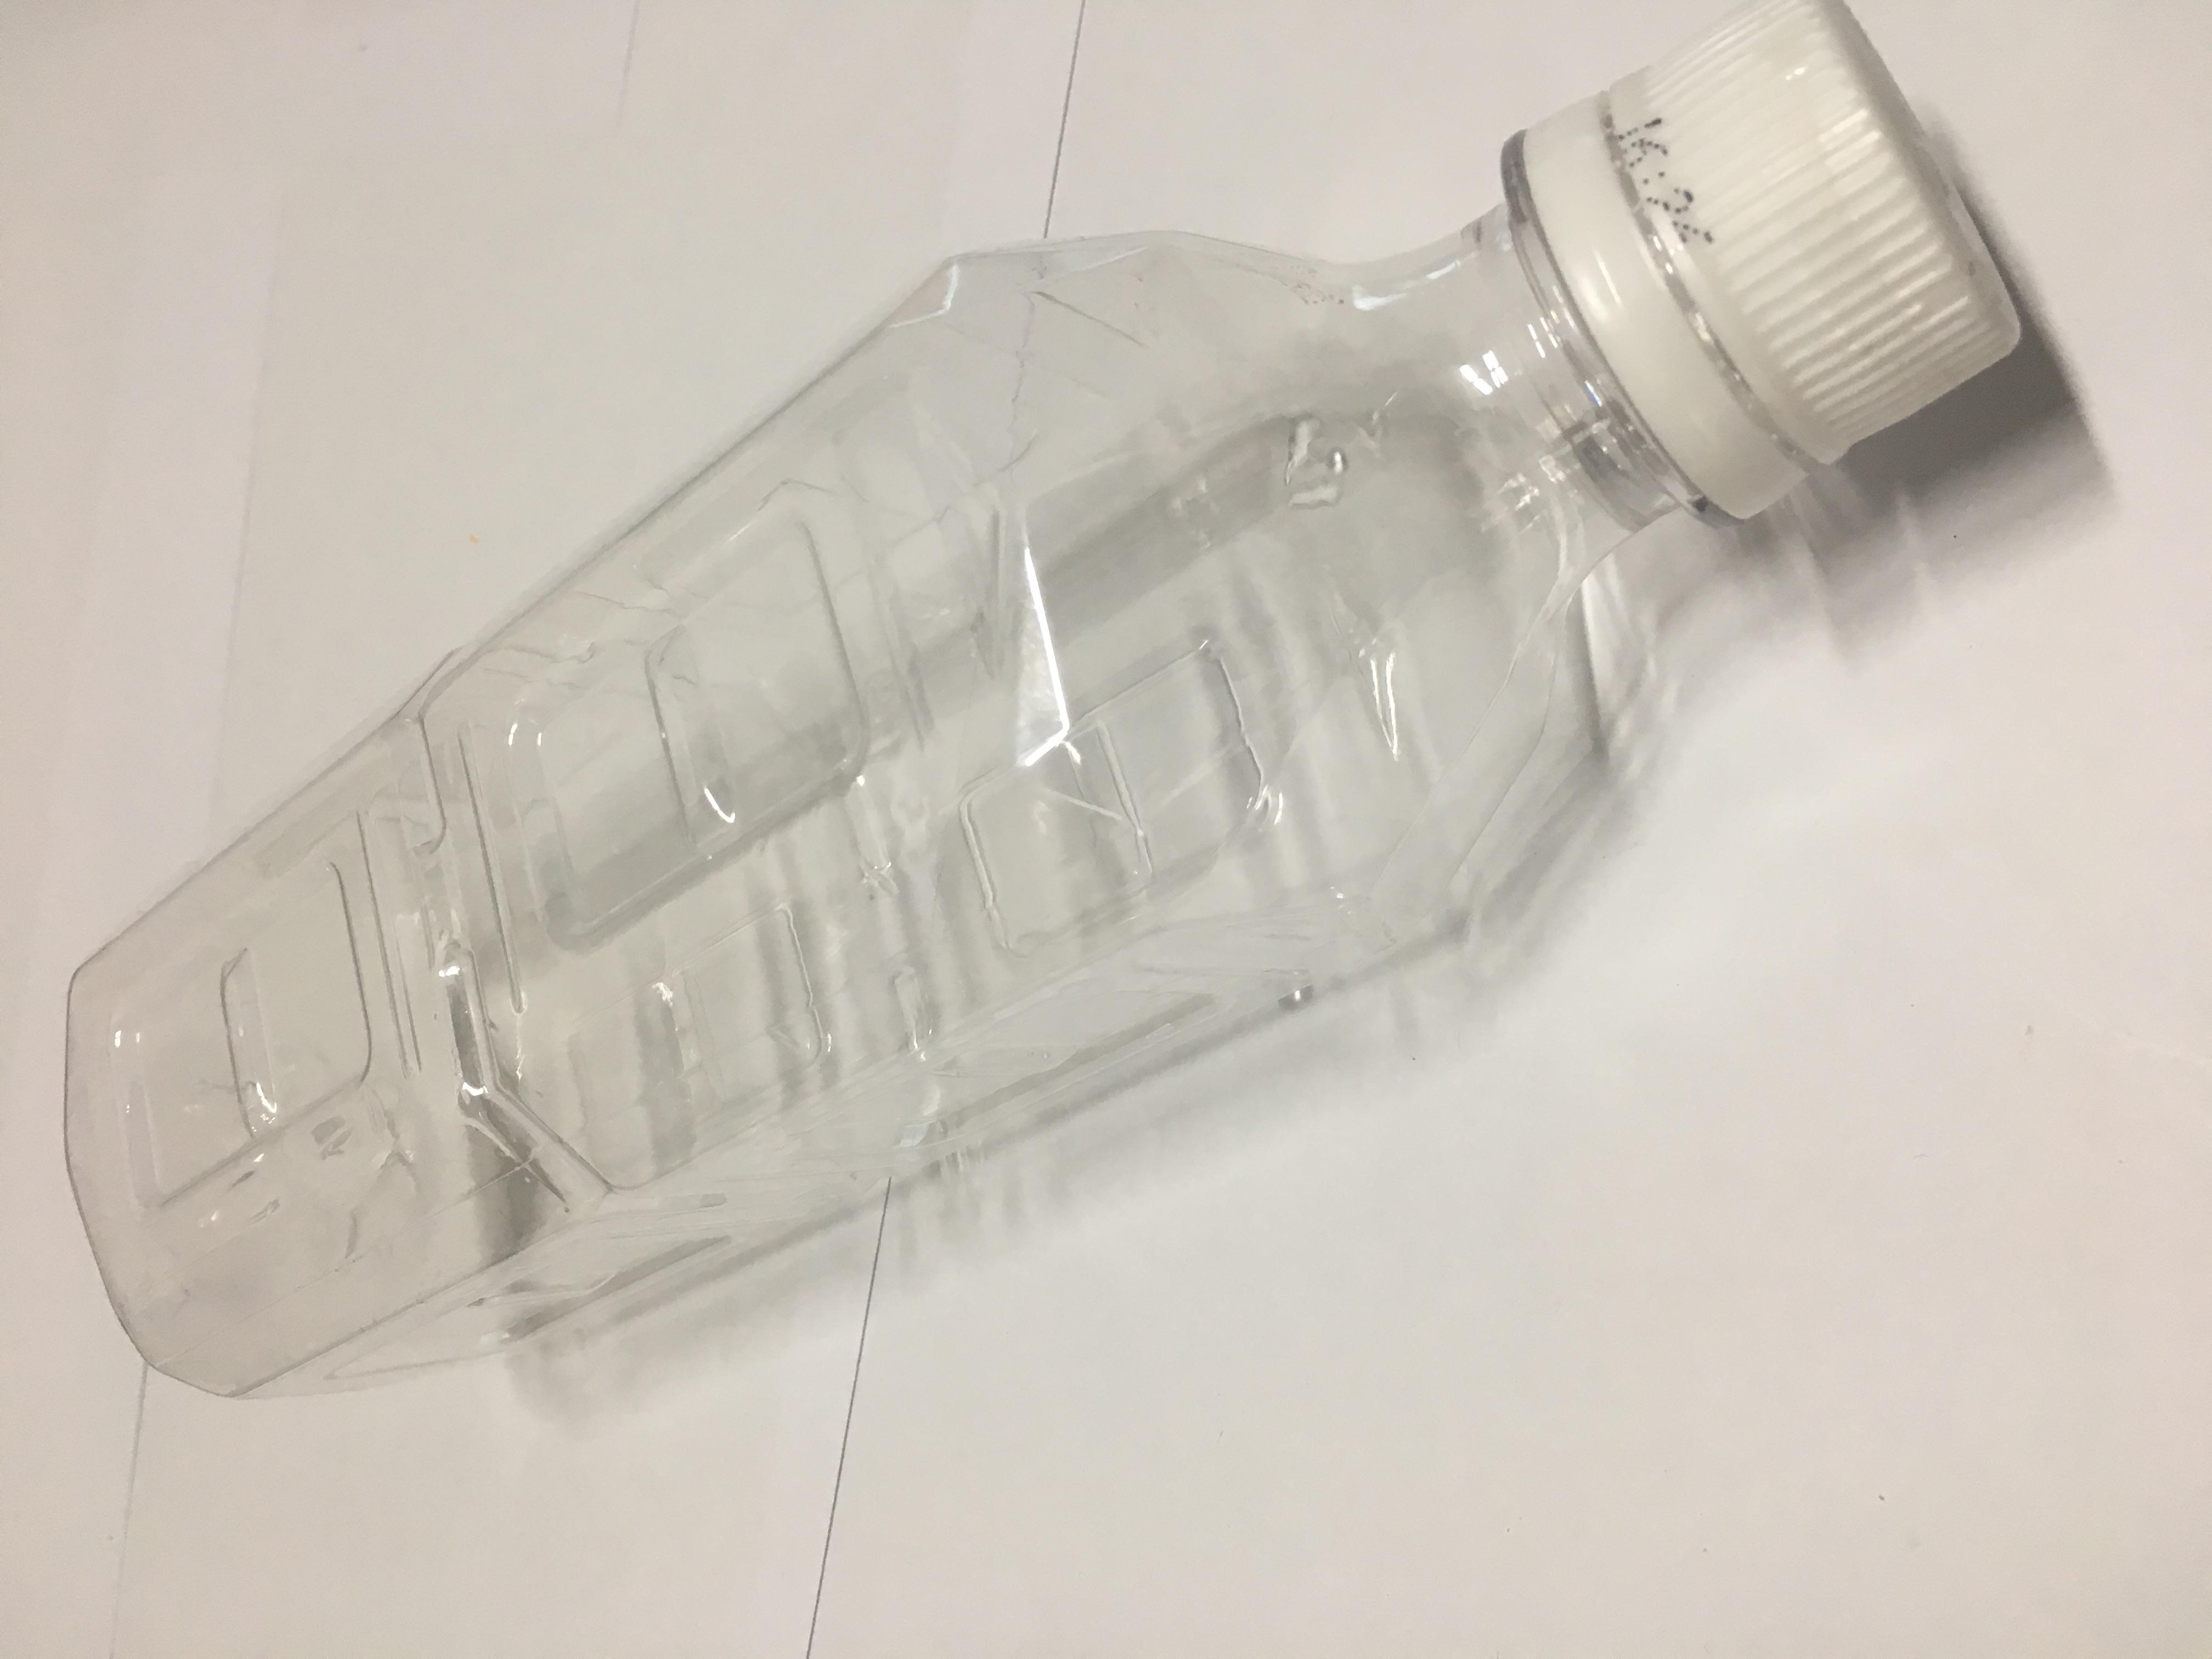bottle: (96, 7, 2212, 1605)
